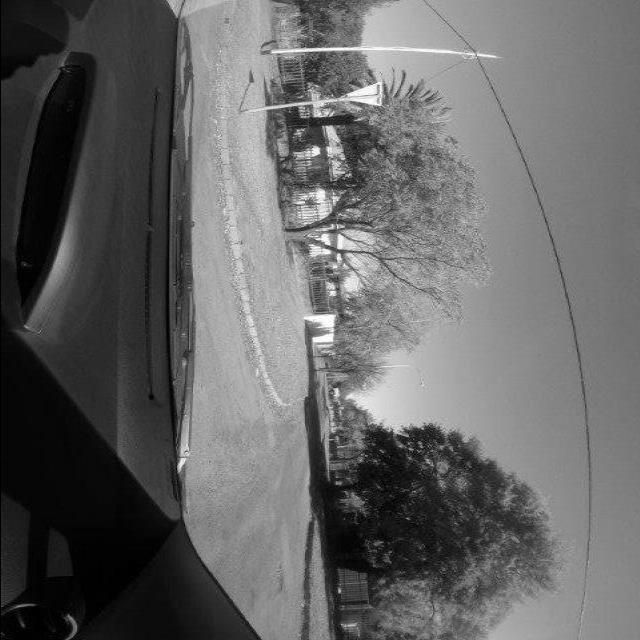lubang: (272, 559, 288, 601)
